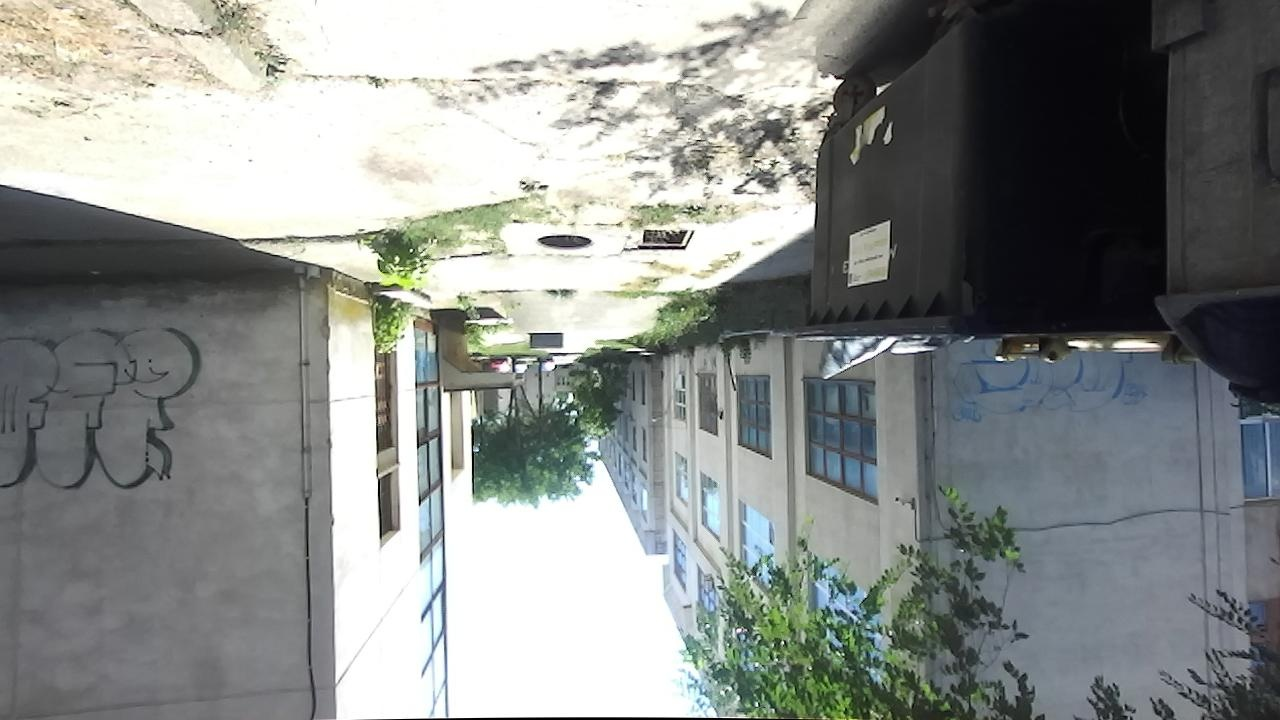drain: (634, 225, 700, 255), (534, 230, 595, 255)
